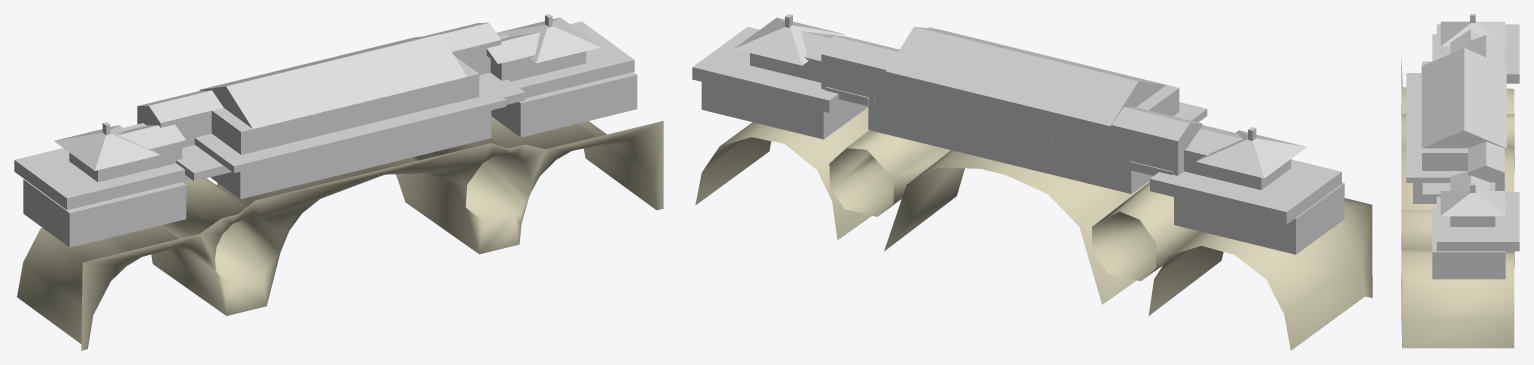
Rendered from AnShunLangQiao_Collider.fbx.
3 views of the same model, side by side, from view 1: azimuth 30°, elevation 25°; view 2: azimuth 150°, elevation 25°; view 3: azimuth 270°, elevation 25° (orthographic). The views are drawn at different scales.
Parts seen in each view (by area): view 1: Object001, Box001, Box003, Box002, Box020, Box004, Box012, Box019, Box011, Box015, Box007, Box017 (+9 smaller); view 2: Object001, Box001, Box003, Box002, Box019, Box020, Box011, Box012, Box015, Box004, Box007, Box013 (+7 smaller); view 3: Object001, Box001, Box011, Box012, Box004, Box007, Box019, Box015, Box002, Box006, Box014, Box009 (+6 smaller).
Boxes of the visible parts, x1=… form: Object001: x1=17, y1=116, x2=663, y2=350; Box001: x1=199, y1=34, x2=466, y2=128; Box003: x1=210, y1=110, x2=491, y2=199; Box002: x1=211, y1=55, x2=479, y2=154; Box020: x1=23, y1=179, x2=186, y2=247; Box004: x1=194, y1=80, x2=506, y2=172; Box012: x1=491, y1=72, x2=637, y2=137; Box019: x1=14, y1=148, x2=191, y2=209; Box011: x1=511, y1=21, x2=634, y2=98; Box015: x1=54, y1=125, x2=159, y2=170; Box007: x1=496, y1=17, x2=600, y2=63; Box017: x1=69, y1=123, x2=182, y2=182; Object001: x1=695, y1=107, x2=1372, y2=350; Box001: x1=886, y1=26, x2=1165, y2=126; Box003: x1=868, y1=98, x2=1152, y2=193; Box002: x1=874, y1=27, x2=1179, y2=152; Box019: x1=1150, y1=159, x2=1341, y2=224; Box020: x1=1174, y1=182, x2=1344, y2=254; Box011: x1=692, y1=27, x2=845, y2=112; Box012: x1=701, y1=82, x2=868, y2=139; Box015: x1=1196, y1=130, x2=1306, y2=178; Box004: x1=875, y1=91, x2=1207, y2=158; Box007: x1=734, y1=17, x2=844, y2=65; Box013: x1=1124, y1=124, x2=1202, y2=175; Object001: x1=1401, y1=59, x2=1514, y2=349; Box001: x1=1421, y1=48, x2=1506, y2=148; Box011: x1=1436, y1=192, x2=1519, y2=251; Box012: x1=1432, y1=207, x2=1505, y2=279; Box004: x1=1406, y1=73, x2=1466, y2=182; Box007: x1=1440, y1=191, x2=1505, y2=216; Box019: x1=1436, y1=24, x2=1519, y2=83; Box015: x1=1440, y1=21, x2=1505, y2=46; Box002: x1=1422, y1=61, x2=1467, y2=170; Box006: x1=1468, y1=141, x2=1504, y2=172; Box014: x1=1468, y1=35, x2=1504, y2=64; Box009: x1=1450, y1=182, x2=1495, y2=226.
Bounding box in the file's own units: 66.45 × 20.81 × 14.83.
